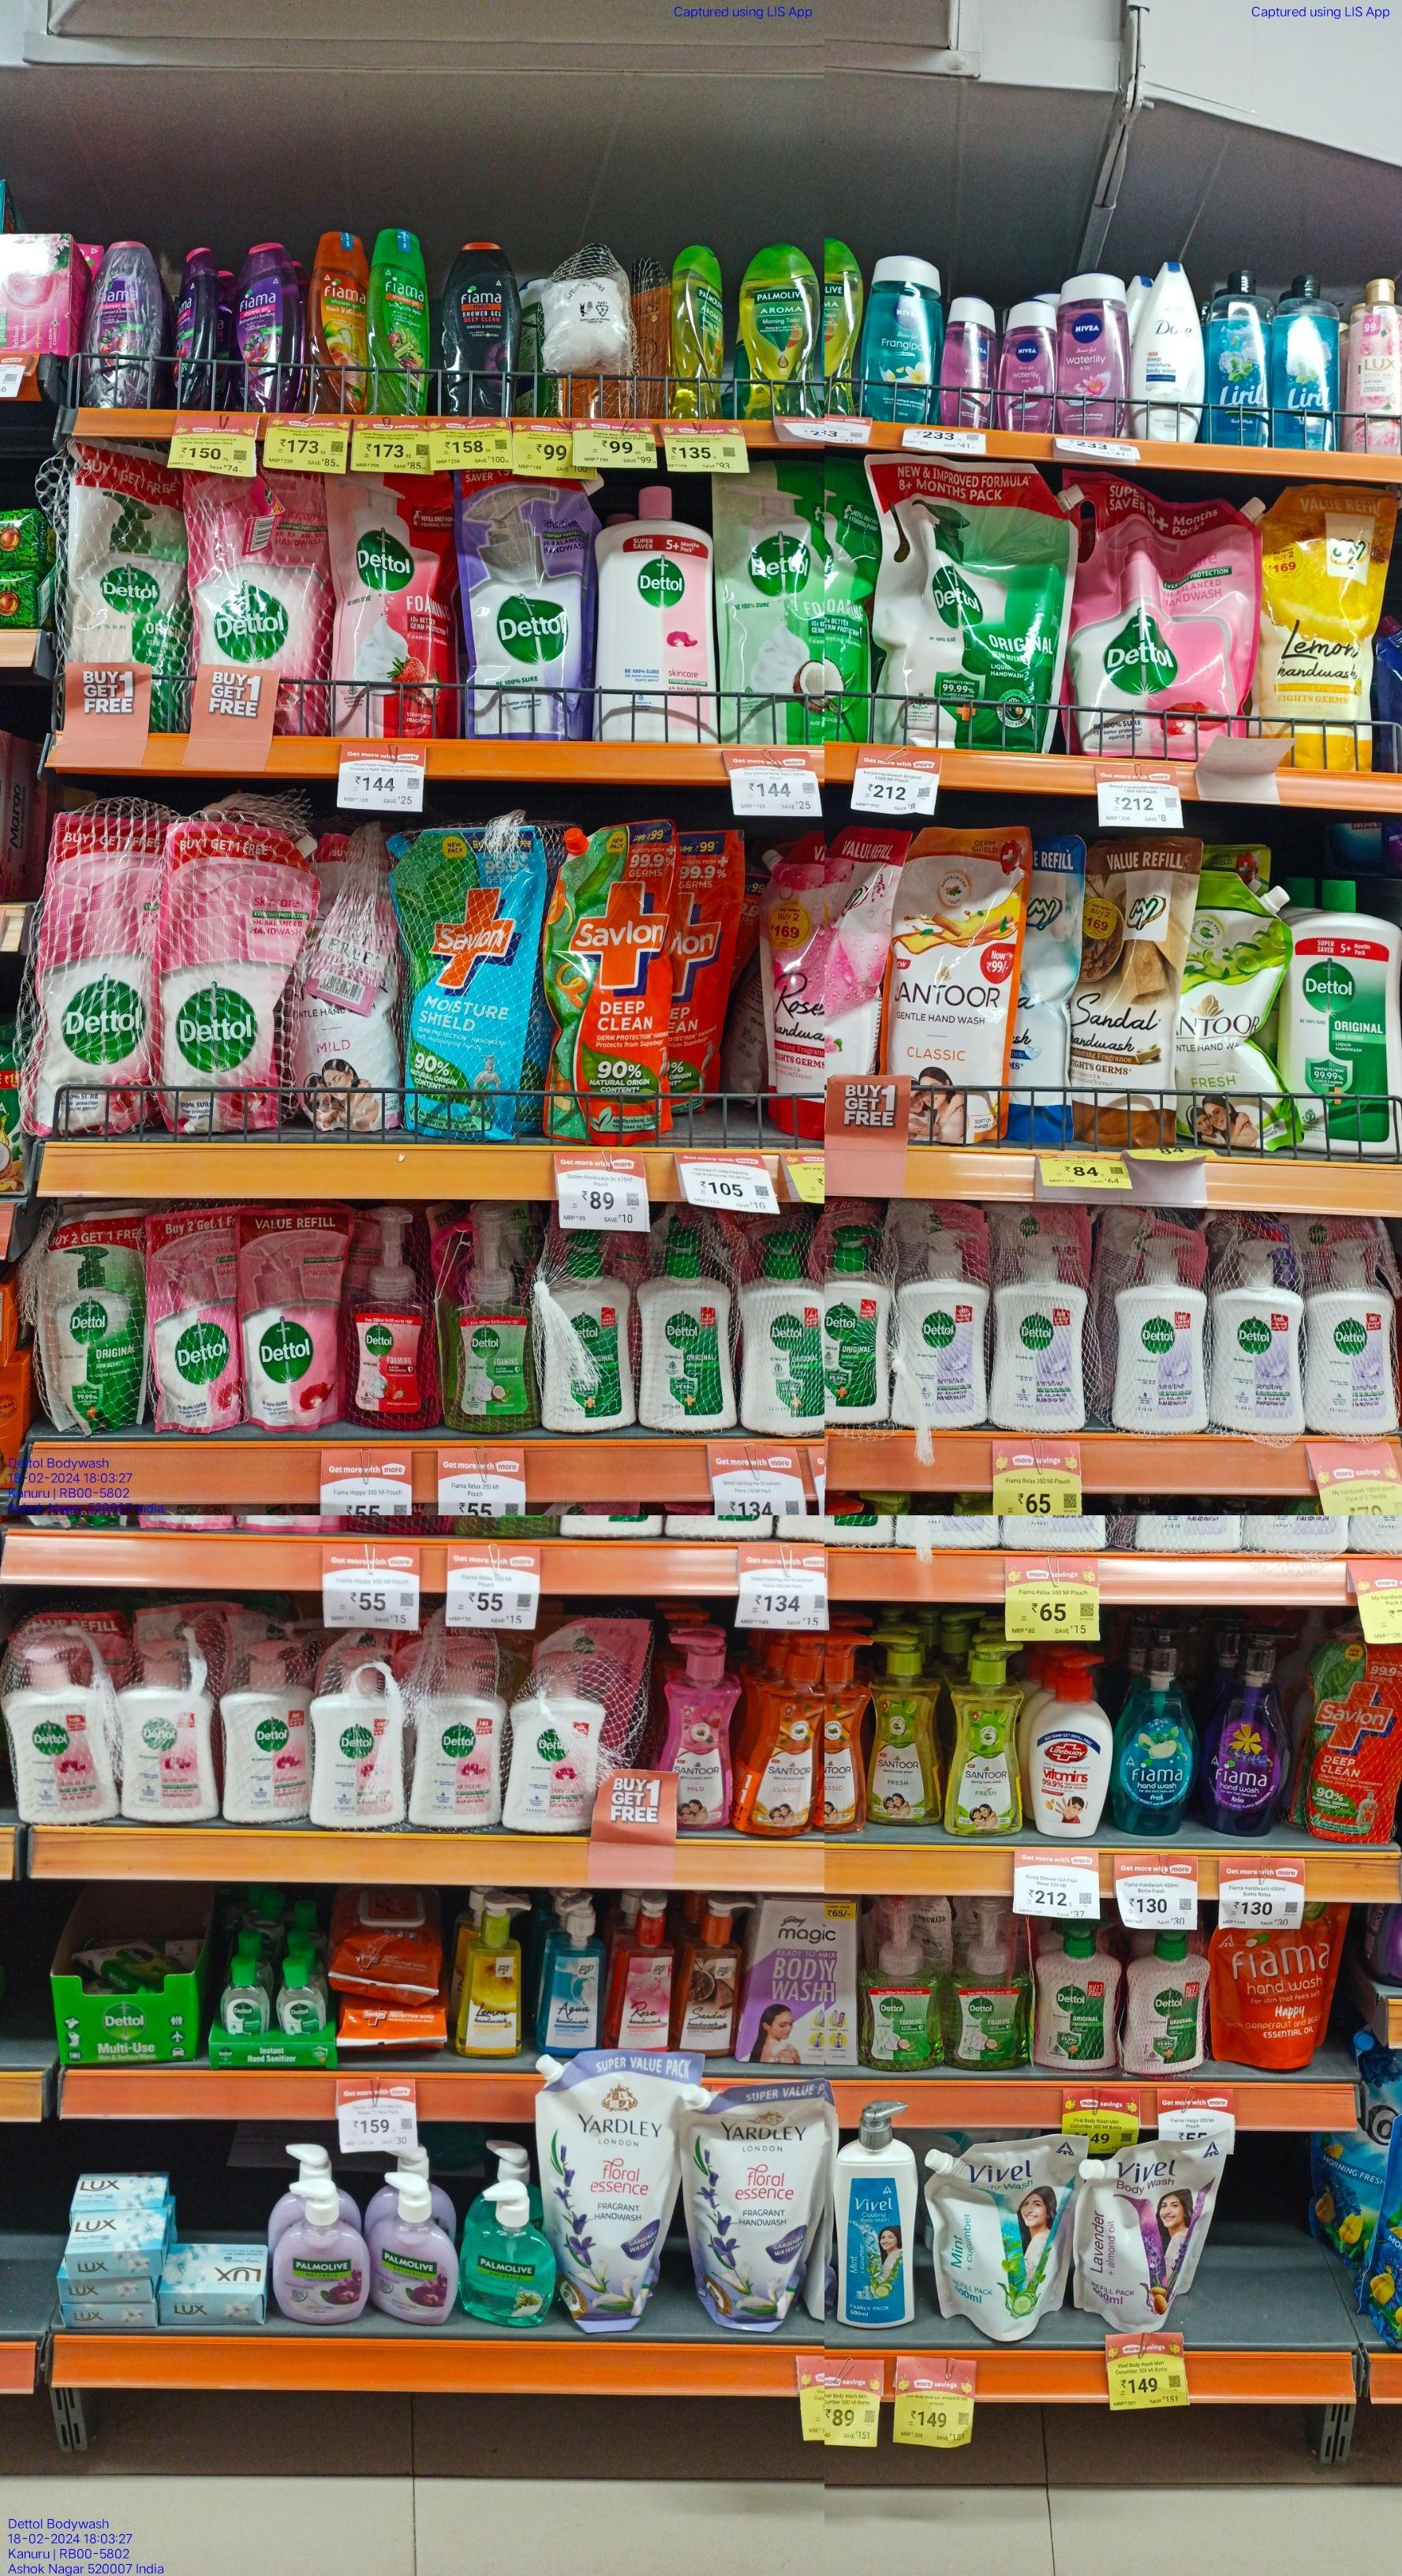Dove_Deep_Moisture_Body_Wash_250ML: (1133, 261, 1203, 440)
Liril_Cooling_Mint_Body_Wash_250ML: (1269, 273, 1338, 452), (1209, 273, 1267, 442)
Nivea_Shower_Gel_Frangipani_and_Oil_250ML: (863, 250, 939, 425)
Nivea_Shower_Gel_Waterlily_and_Oil_250ML: (1060, 273, 1127, 442)
Palmolive_Aroma_Morning_Tonic_Shower_Gel_250ML: (741, 242, 818, 414), (670, 245, 723, 420)
